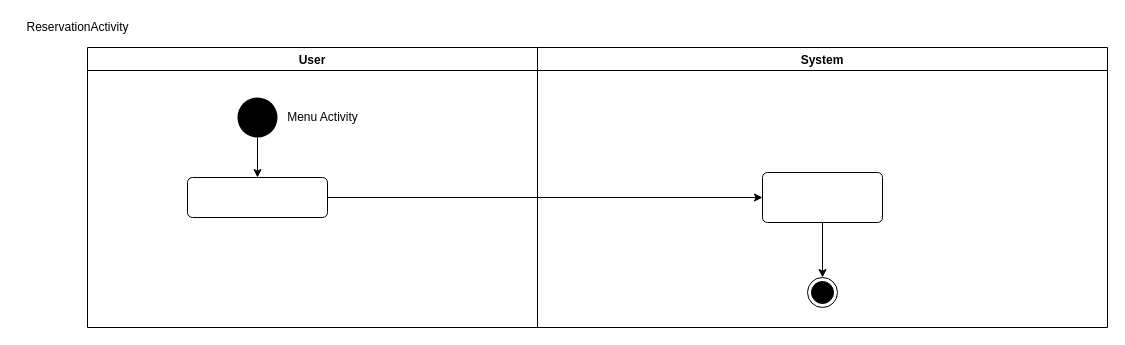
This 1125x345 diagram has some shape labels left out. Each missing label, with the centre of its shape:
"Remove the book from the reservation list" goes at (x=822, y=197).
"Select the book that we want to retrieve" goes at (x=257, y=197).
